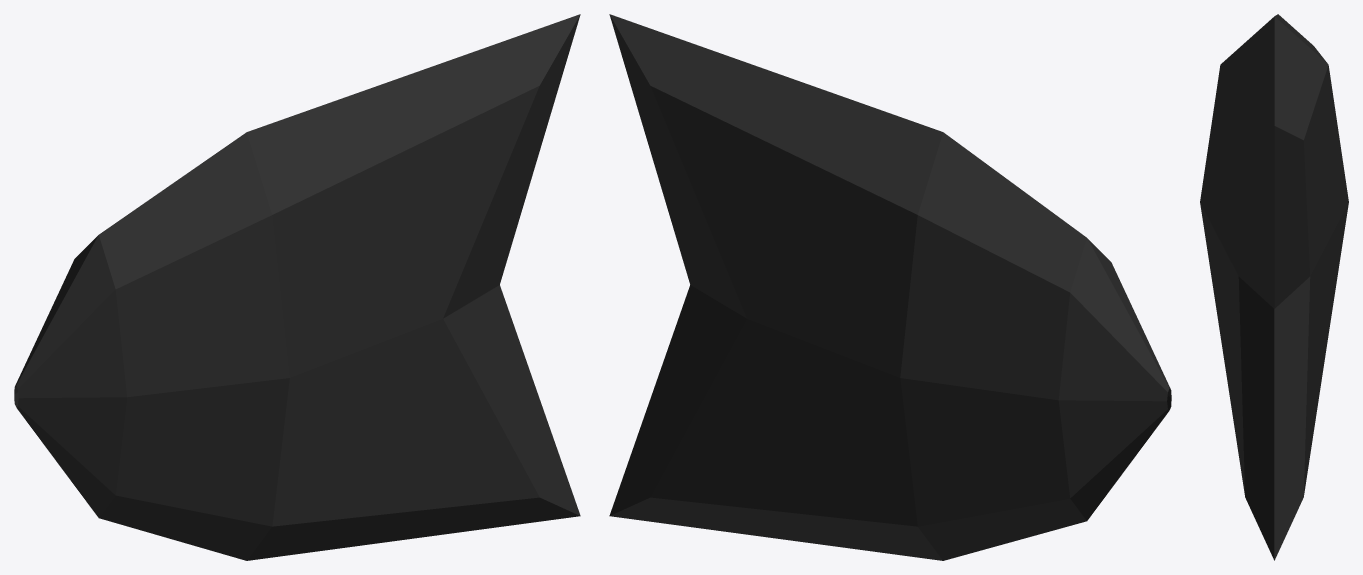
The model's file is Whale Tail 1.fbx.
3 views of the same model, side by side, from view 1: azimuth 30°, elevation 25°; view 2: azimuth 150°, elevation 25°; view 3: azimuth 270°, elevation 25° (orthographic). The views are drawn at different scales.
Parts seen in each view (by area): view 1: Whale Tail; view 2: Whale Tail; view 3: Whale Tail.
Boxes of the visible parts, x1,y1,x2,y2 form: Whale Tail: (14, 14, 580, 560); Whale Tail: (609, 14, 1171, 560); Whale Tail: (1200, 14, 1348, 560).
Bounding box in the file's own units: 2.41 × 2.06 × 0.638.
Materials: 1 (1 with a texture image).
